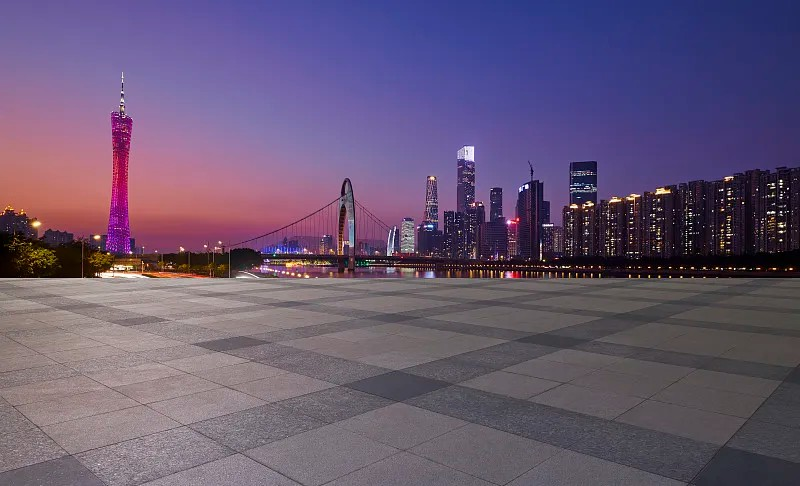Canton: (104, 70, 134, 257)
